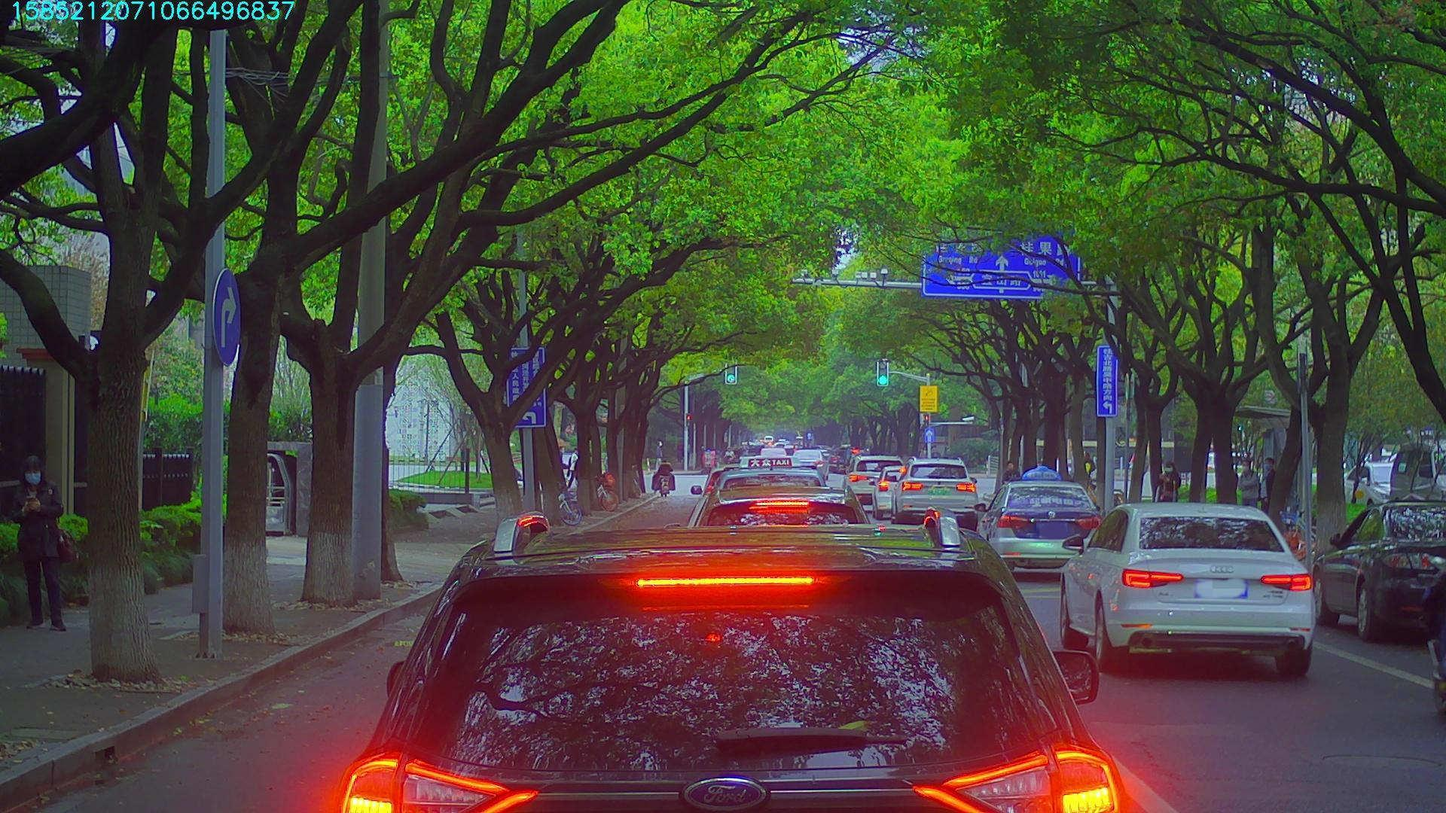green: (725, 357, 736, 383), (877, 358, 887, 385)
